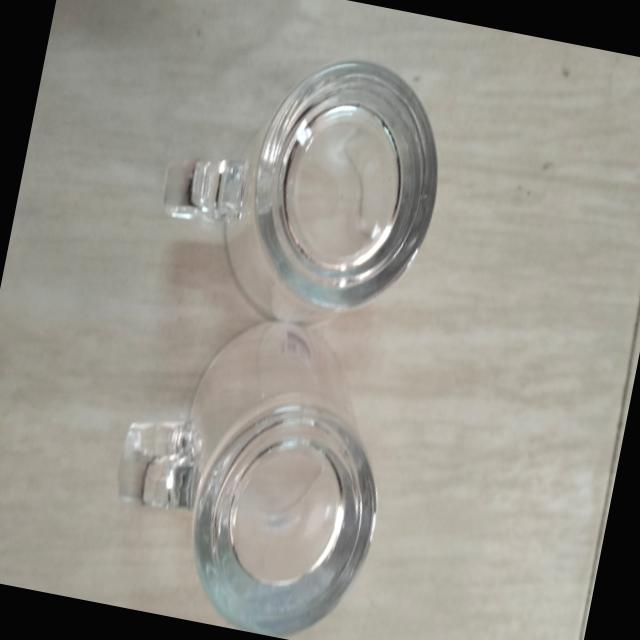glass-VX4N: (91, 297, 412, 640), (145, 22, 467, 350)
